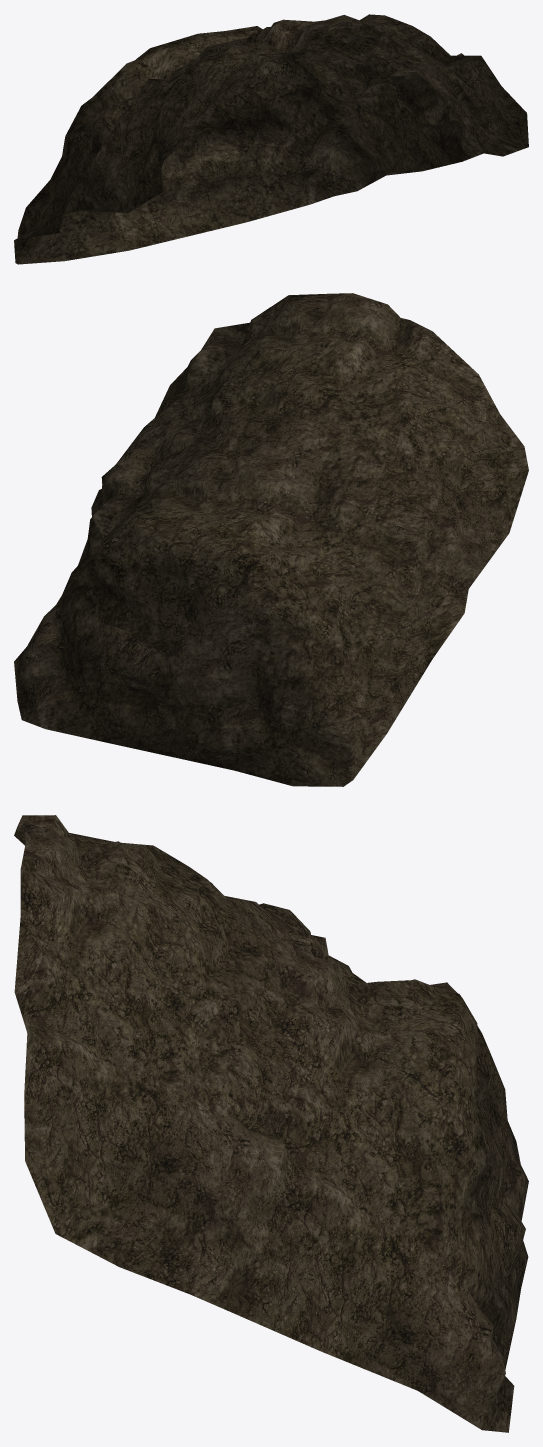
The model's file is FO_Mud_02.fbx.
3 views of the same model, one above another, from view 1: azimuth 30°, elevation 25°; view 2: azimuth 150°, elevation 25°; view 3: azimuth 270°, elevation 25° (orthographic). The views are drawn at different scales.
Visible parts, largest first — view 1: FO_Mud_02; view 2: FO_Mud_02; view 3: FO_Mud_02.
Boxes of the visible parts, bbox=[...] form: FO_Mud_02: bbox=[14, 14, 528, 264]; FO_Mud_02: bbox=[14, 293, 528, 786]; FO_Mud_02: bbox=[14, 815, 528, 1432].
Size of the model in its own units: 15.5 by 12.88 by 12.38.
